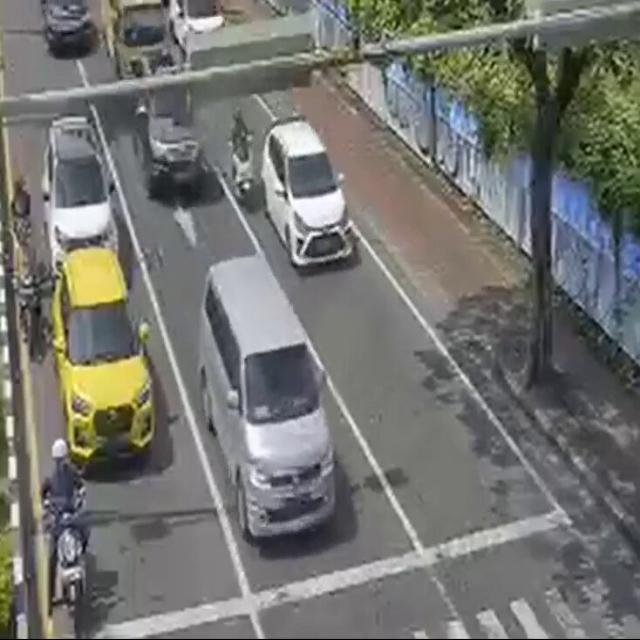car: (199, 256, 346, 548), (54, 247, 155, 469), (254, 108, 375, 276), (44, 114, 113, 274)
motorbike: (41, 437, 100, 633), (230, 114, 266, 212)
